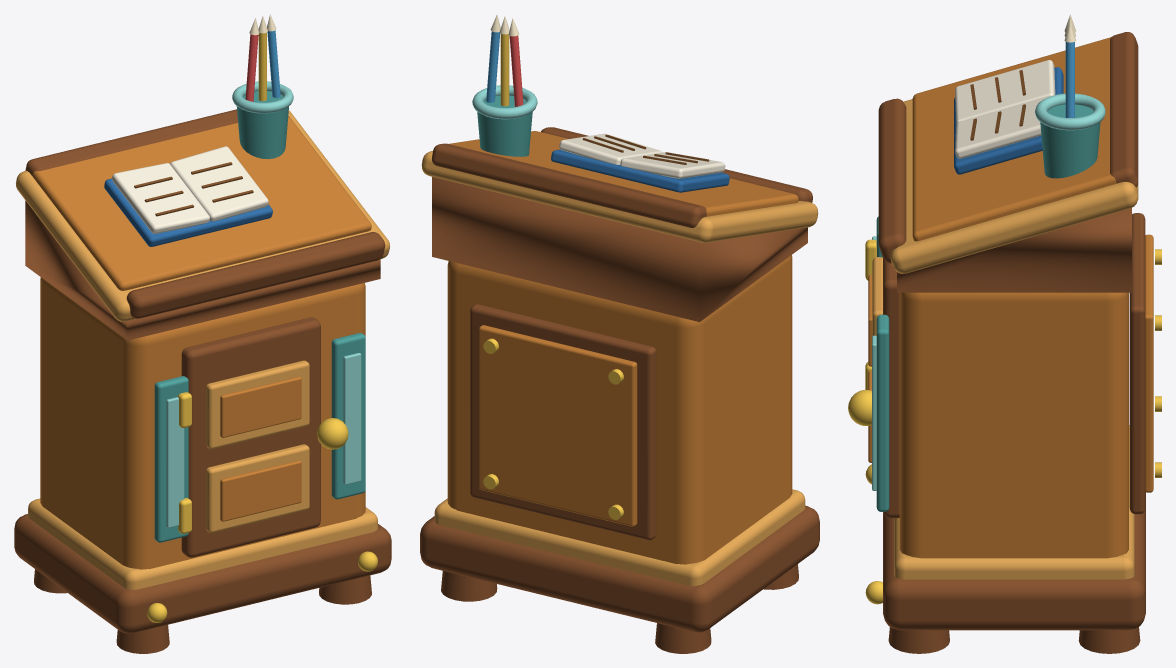
The model's file is teacher-podium.glb.
The picture shows the model from 3 angles, left to right: view 1: azimuth 30°, elevation 25°; view 2: azimuth 150°, elevation 25°; view 3: azimuth 270°, elevation 25°; orthographic projection. The views are drawn at different scales.
Visible parts, largest first — view 1: podium-body-surface-0, slanted-reading-top-surface-4, lower-plinth-surface-0, storage-door-surface-0, slanted-reading-top-surface-0, slanted-reading-top-surface-6, lower-plinth-surface-2, slanted-reading-top-surface-2, notebook-surface-4, notebook-surface-2, storage-door-surface-5, storage-door-surface-7 (+16 smaller); view 2: podium-body-surface-0, slanted-reading-top-surface-0, finished-backside-surface-2, lower-plinth-surface-0, finished-backside-surface-0, lower-plinth-surface-2, slanted-reading-top-surface-8, slanted-reading-top-surface-2, slanted-reading-top-surface-4, notebook-surface-0, pencil-cup-surface-0, notebook-surface-2 (+8 smaller); view 3: podium-body-surface-0, slanted-reading-top-surface-4, lower-plinth-surface-0, slanted-reading-top-surface-0, slanted-reading-top-surface-2, lower-plinth-surface-2, finished-backside-surface-0, slanted-reading-top-surface-6, slanted-reading-top-surface-8, notebook-surface-2, storage-door-surface-0, notebook-surface-4 (+11 smaller).
Part boxes in pixels (x1=…): podium-body-surface-0: x1=40, y1=277, x2=365, y2=569; slanted-reading-top-surface-4: x1=32, y1=115, x2=371, y2=290; lower-plinth-surface-0: x1=14, y1=514, x2=391, y2=633; storage-door-surface-0: x1=181, y1=317, x2=320, y2=557; slanted-reading-top-surface-0: x1=25, y1=200, x2=380, y2=340; slanted-reading-top-surface-6: x1=126, y1=232, x2=385, y2=318; lower-plinth-surface-2: x1=28, y1=498, x2=377, y2=589; slanted-reading-top-surface-2: x1=16, y1=110, x2=389, y2=321; notebook-surface-4: x1=170, y1=146, x2=268, y2=221; notebook-surface-2: x1=112, y1=163, x2=209, y2=233; storage-door-surface-5: x1=206, y1=360, x2=309, y2=449; storage-door-surface-7: x1=220, y1=376, x2=301, y2=437; podium-body-surface-0: x1=447, y1=255, x2=792, y2=564; slanted-reading-top-surface-0: x1=432, y1=177, x2=807, y2=322; finished-backside-surface-2: x1=479, y1=325, x2=637, y2=526; lower-plinth-surface-0: x1=420, y1=505, x2=819, y2=632; finished-backside-surface-0: x1=470, y1=304, x2=656, y2=540; lower-plinth-surface-2: x1=434, y1=489, x2=805, y2=586; slanted-reading-top-surface-8: x1=432, y1=143, x2=706, y2=227; slanted-reading-top-surface-2: x1=421, y1=151, x2=818, y2=242; slanted-reading-top-surface-4: x1=449, y1=131, x2=798, y2=216; notebook-surface-0: x1=551, y1=149, x2=729, y2=192; pencil-cup-surface-0: x1=477, y1=95, x2=532, y2=156; notebook-surface-2: x1=620, y1=152, x2=725, y2=178; podium-body-surface-0: x1=899, y1=292, x2=1128, y2=558; slanted-reading-top-surface-4: x1=912, y1=37, x2=1116, y2=241; lower-plinth-surface-0: x1=883, y1=492, x2=1145, y2=630; slanted-reading-top-surface-0: x1=897, y1=208, x2=1131, y2=292; slanted-reading-top-surface-2: x1=890, y1=99, x2=1138, y2=273; lower-plinth-surface-2: x1=894, y1=425, x2=1134, y2=579; finished-backside-surface-0: x1=1129, y1=213, x2=1145, y2=514; slanted-reading-top-surface-6: x1=878, y1=98, x2=906, y2=263; slanted-reading-top-surface-8: x1=1110, y1=32, x2=1138, y2=187; notebook-surface-2: x1=955, y1=60, x2=1055, y2=123; storage-door-surface-0: x1=883, y1=258, x2=899, y2=518; notebook-surface-4: x1=955, y1=96, x2=1050, y2=158.
Bounding box in the file's own units: 0.9394 × 1.75 × 0.8111.
